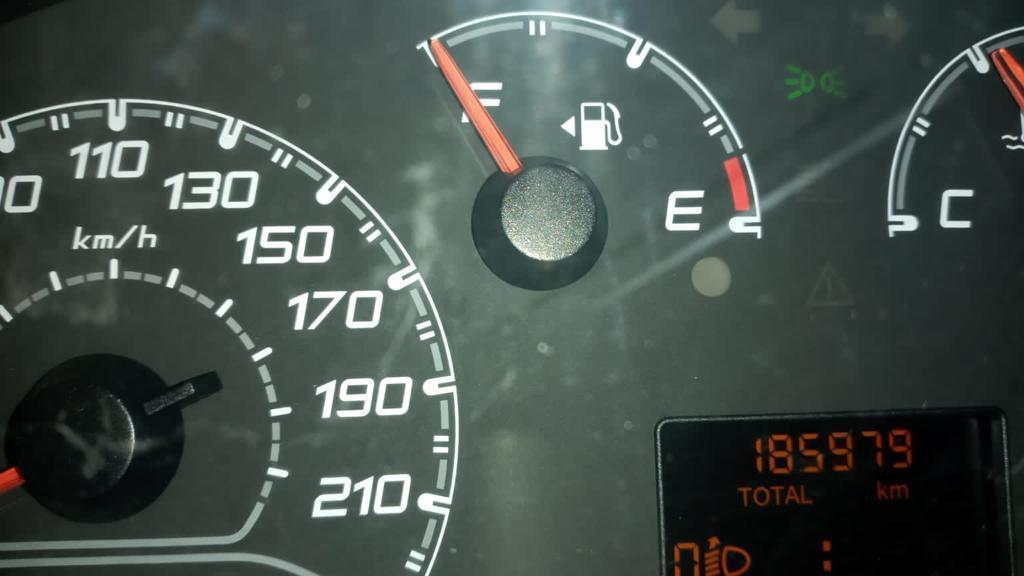0: (670, 540, 702, 575)
1: (752, 435, 766, 474)
5: (798, 432, 824, 474)
7: (859, 427, 883, 468)
8: (768, 432, 794, 474)
9: (827, 430, 855, 473), (888, 427, 913, 470)
X: (817, 535, 838, 574), (753, 485, 769, 507), (736, 484, 750, 507), (769, 484, 784, 505), (875, 478, 889, 500), (799, 483, 813, 505), (890, 482, 908, 499), (785, 484, 798, 506)
odometer: (644, 409, 1019, 576)
